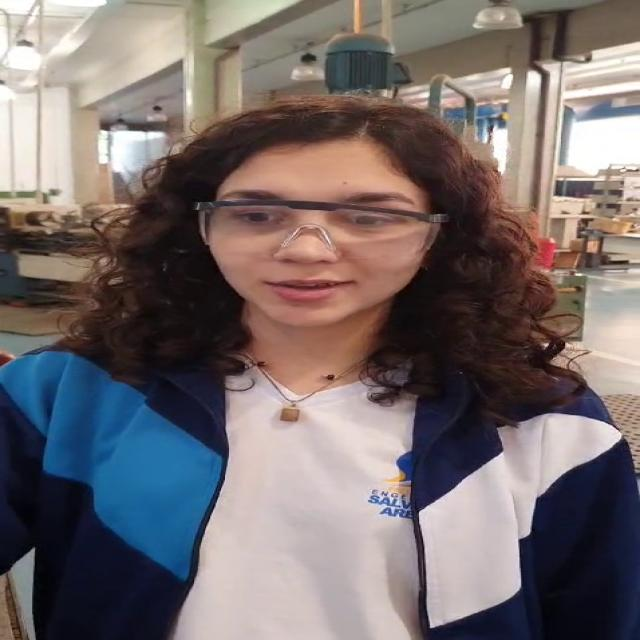oculos-epi: (196, 199, 442, 257)
